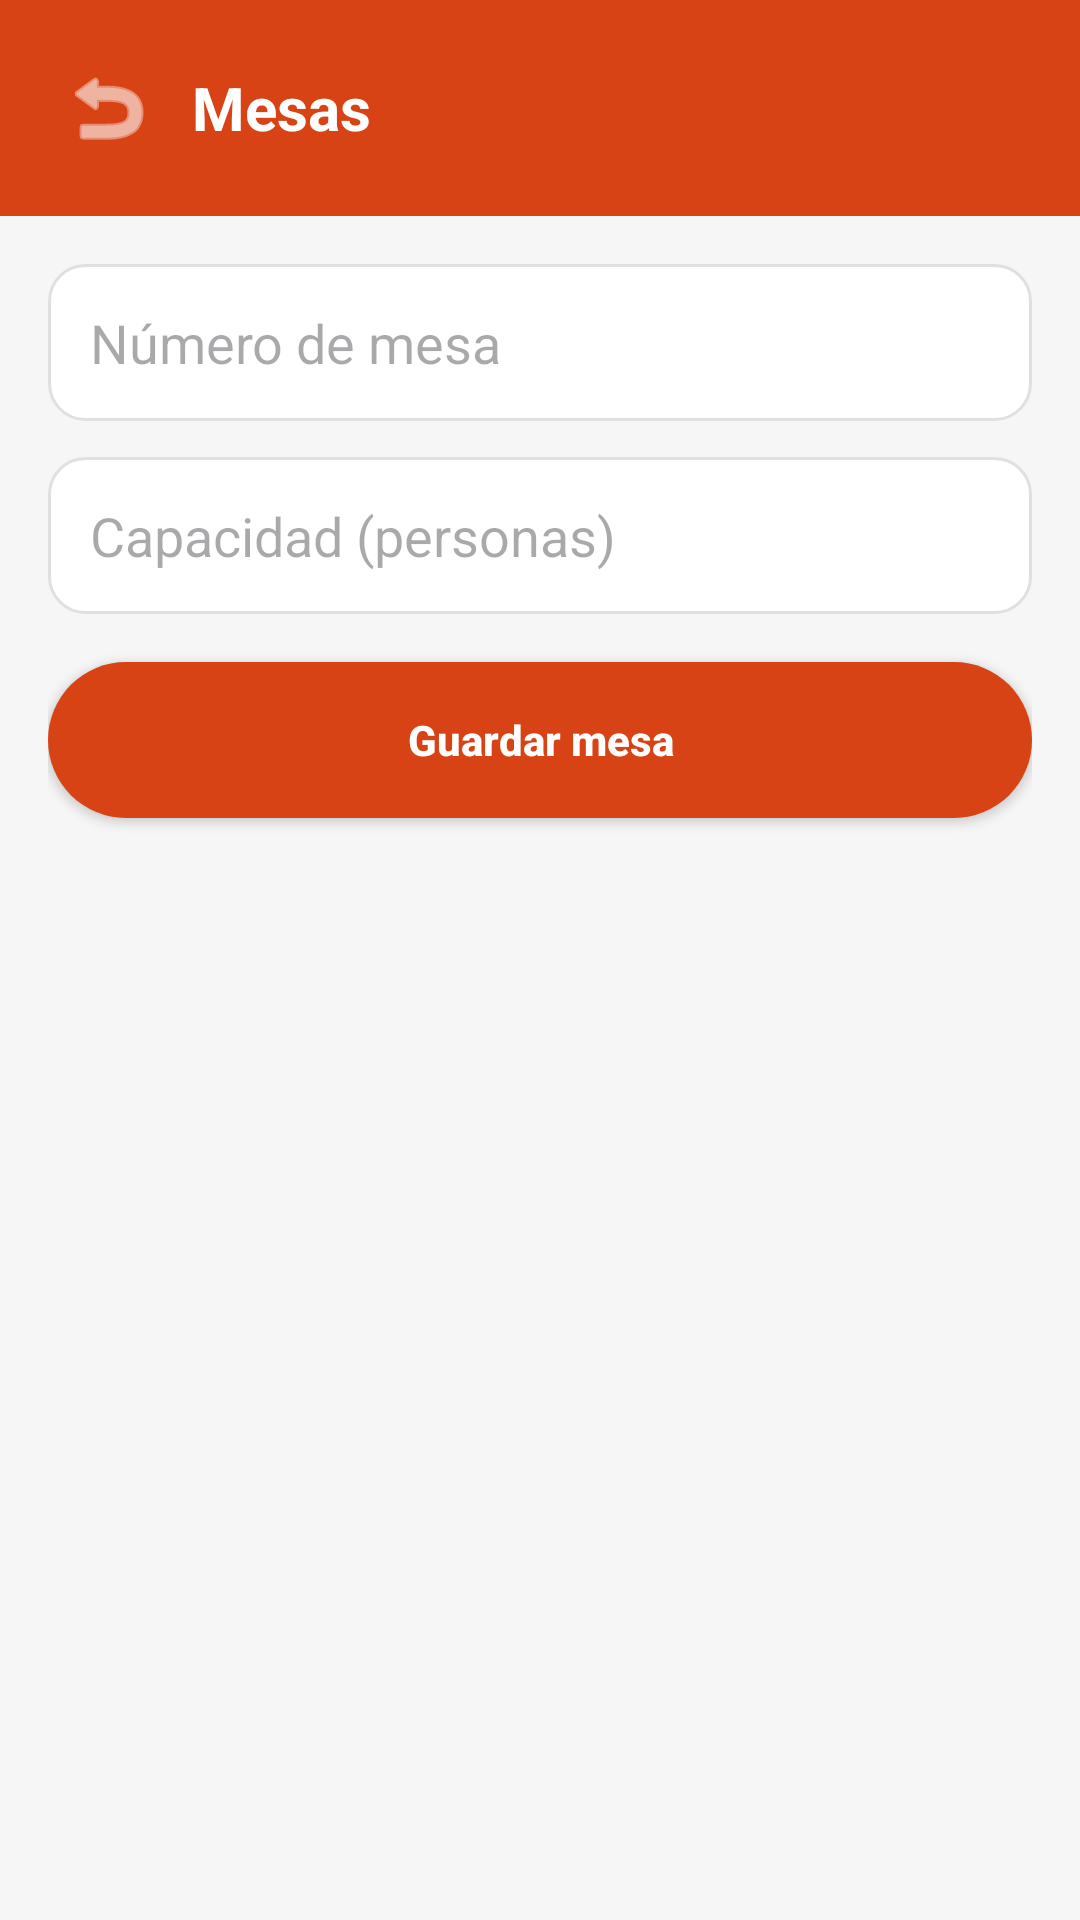

Where to tap for icons on this 1080*1920 app screen, as point (x, y):
Volver: point (109, 108)
